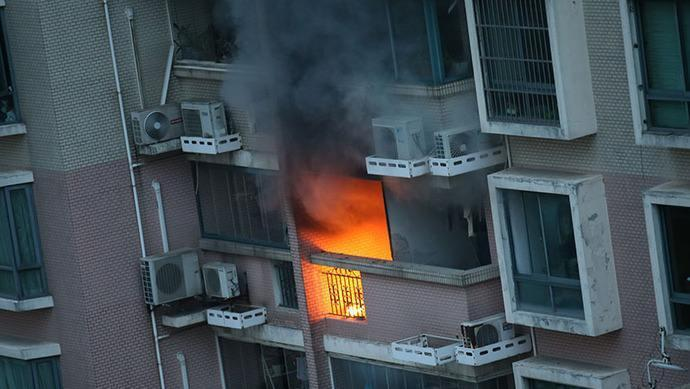fire: (301, 178, 394, 258), (304, 262, 369, 319)
